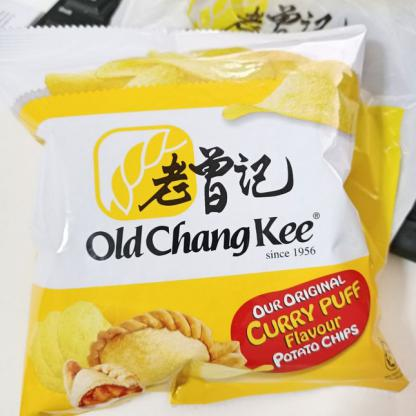potatochip: (0, 23, 412, 416)
